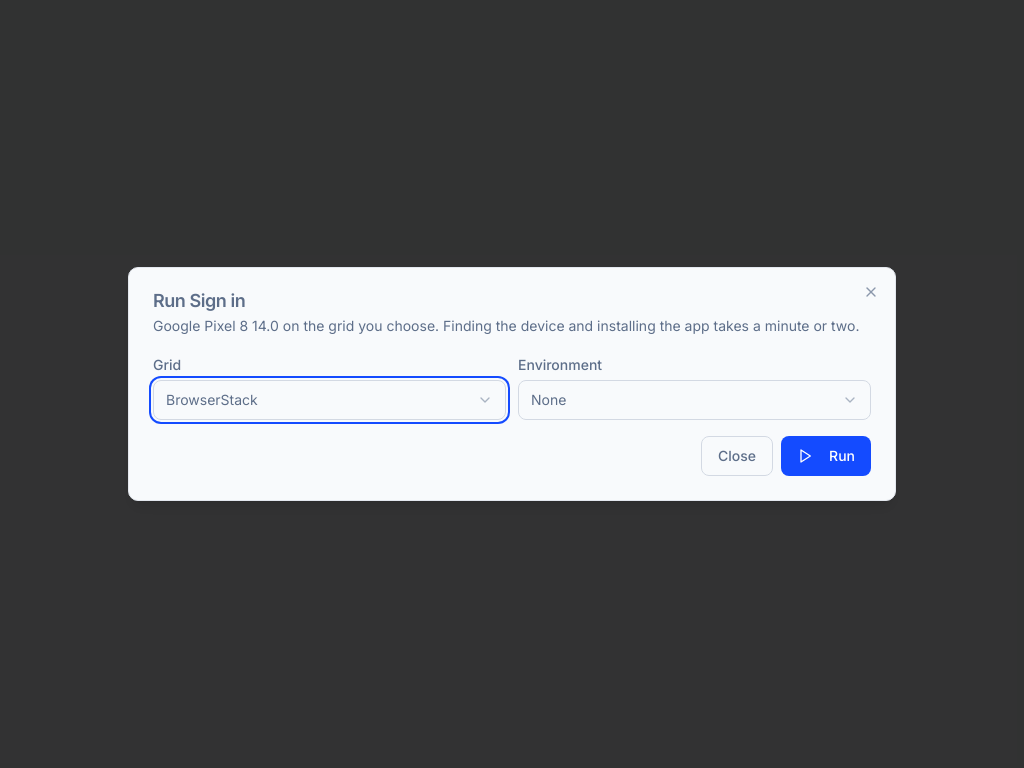
Scenario: MobileRunDialog › starts a run on the grid chosen and shows each step as it comes
What coordinates should you click on to do the following:
click the button "Run"
I would click on:
 (826, 456)
Its box is x1=781 y1=436 x2=871 y2=476.
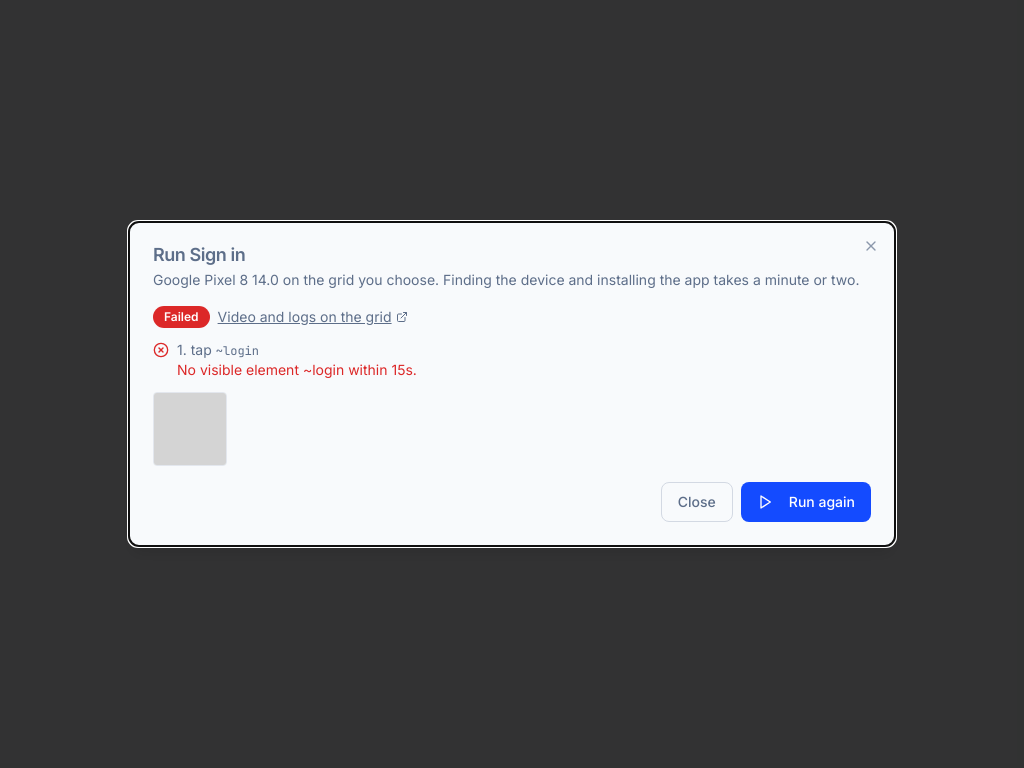
Check: the text "No visible element ~login within 15s." is shown, box x1=177 y1=360 x2=417 y2=380
